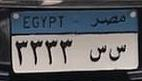3: (29, 38, 44, 68), (59, 37, 74, 66), (45, 37, 58, 69), (14, 39, 28, 66)
seen: (88, 43, 108, 65), (108, 43, 127, 62)
